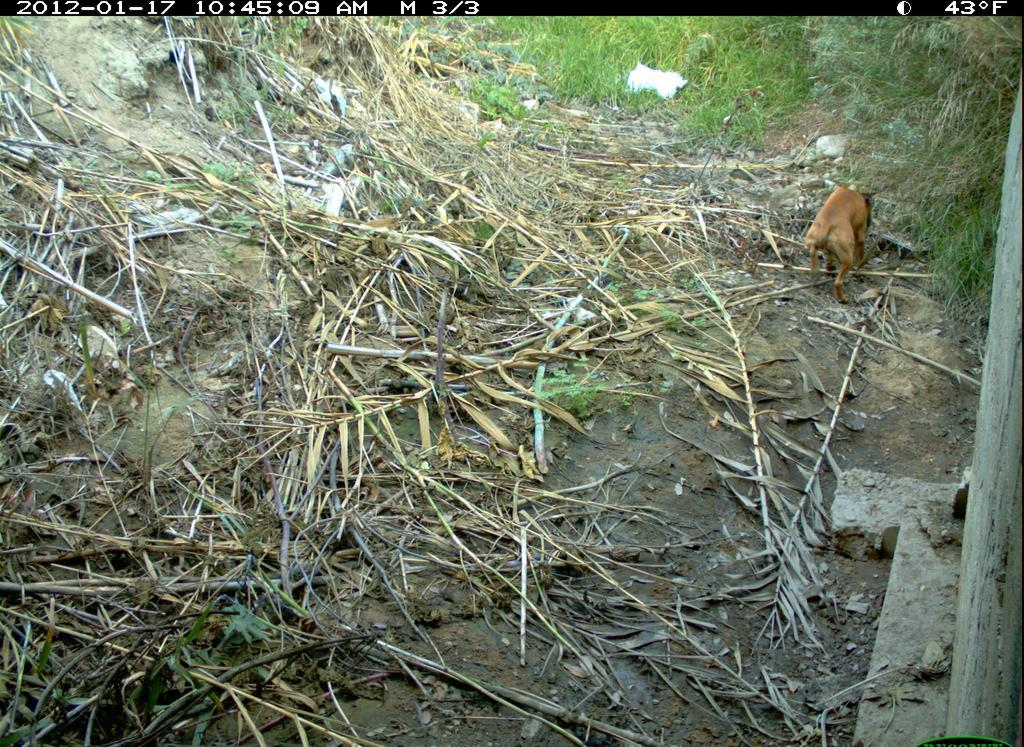dog: (802, 164, 890, 308)
